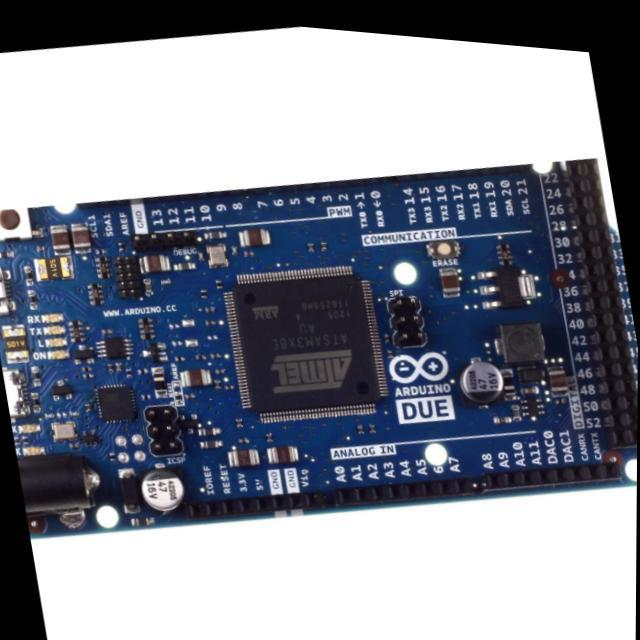Arduino-Due: (1, 161, 637, 538)
